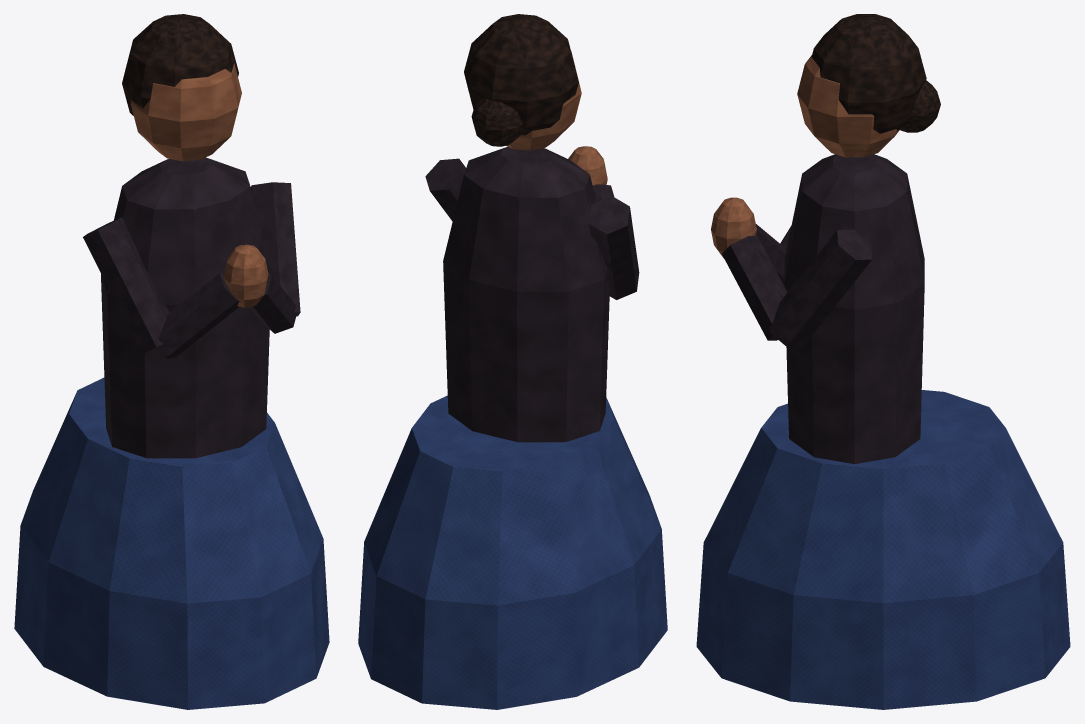
Rendered from persona_rodillas.obj.
The picture shows the model from 3 angles, left to right: view 1: azimuth 30°, elevation 25°; view 2: azimuth 150°, elevation 25°; view 3: azimuth 270°, elevation 25°; orthographic projection. The views are drawn at different scales.
Visible parts, largest first — view 1: Pieza, Pieza.001, Sphere.001, Sphere.002, Cylinder, Cylinder.002, Cylinder.001, Sphere, Cylinder.003; view 2: Pieza, Pieza.001, Sphere.002, Cylinder, Sphere.003, Cylinder.002, Sphere.001, Sphere; view 3: Pieza, Pieza.001, Sphere.002, Cylinder.002, Sphere.001, Cylinder.003, Sphere, Sphere.003, Cylinder.001.
Boxes of the visible parts, x1,y1,x2,y2 form: Pieza: (14,377,329,709); Pieza.001: (101,157,269,458); Sphere.001: (130,64,241,161); Sphere.002: (122,14,238,115); Cylinder: (83,217,169,353); Cylinder.002: (250,182,300,316); Cylinder.001: (155,272,239,358); Sphere: (224,244,268,307); Cylinder.003: (250,272,296,333); Pieza: (358,395,667,709); Pieza.001: (443,147,609,442); Sphere.002: (464,14,578,135); Cylinder: (589,196,639,299); Sphere.003: (471,99,523,146); Cylinder.002: (425,158,465,221); Sphere.001: (506,51,581,150); Sphere: (568,146,607,185); Pieza: (696,390,1070,709); Pieza.001: (784,154,924,464); Sphere.002: (811,14,926,133); Cylinder.002: (769,229,872,346); Sphere.001: (797,55,900,157); Cylinder.003: (722,236,787,340); Sphere: (711,197,756,258); Sphere.003: (900,80,940,132); Cylinder.001: (755,224,786,286).
Bounding box in the file's own units: 0.52 × 1.21 × 0.65.
Materials: 4 (4 with a texture image).
